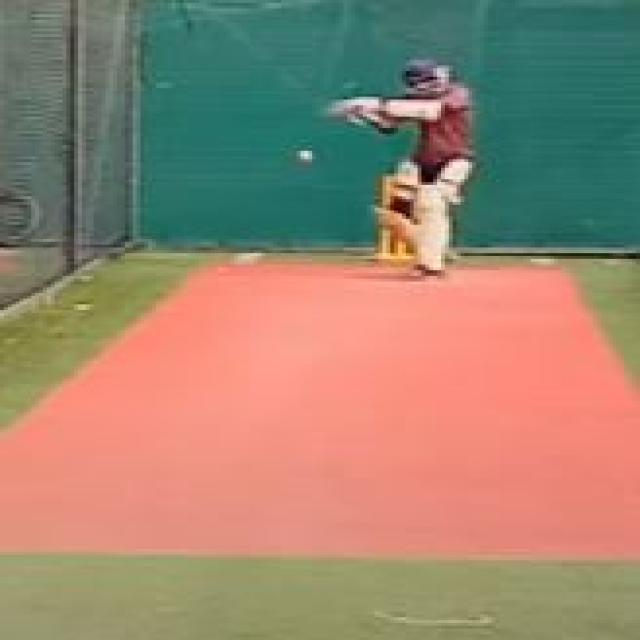ball: (291, 148, 323, 162)
